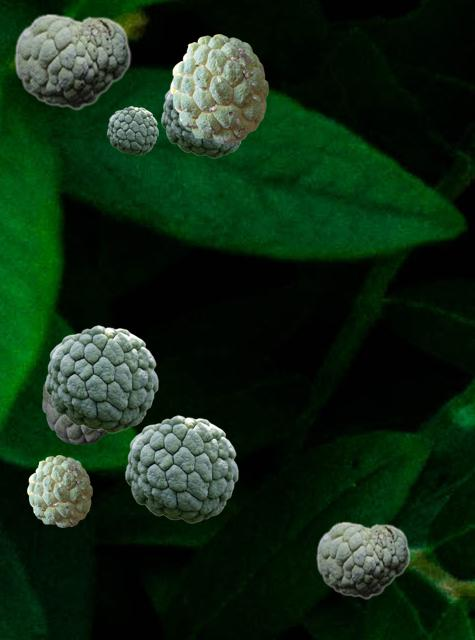atis: (125, 415, 237, 522), (45, 325, 157, 432), (14, 13, 130, 109), (170, 34, 267, 142), (316, 521, 409, 598), (161, 89, 241, 157), (27, 455, 91, 526), (42, 382, 108, 443), (107, 106, 157, 154)
